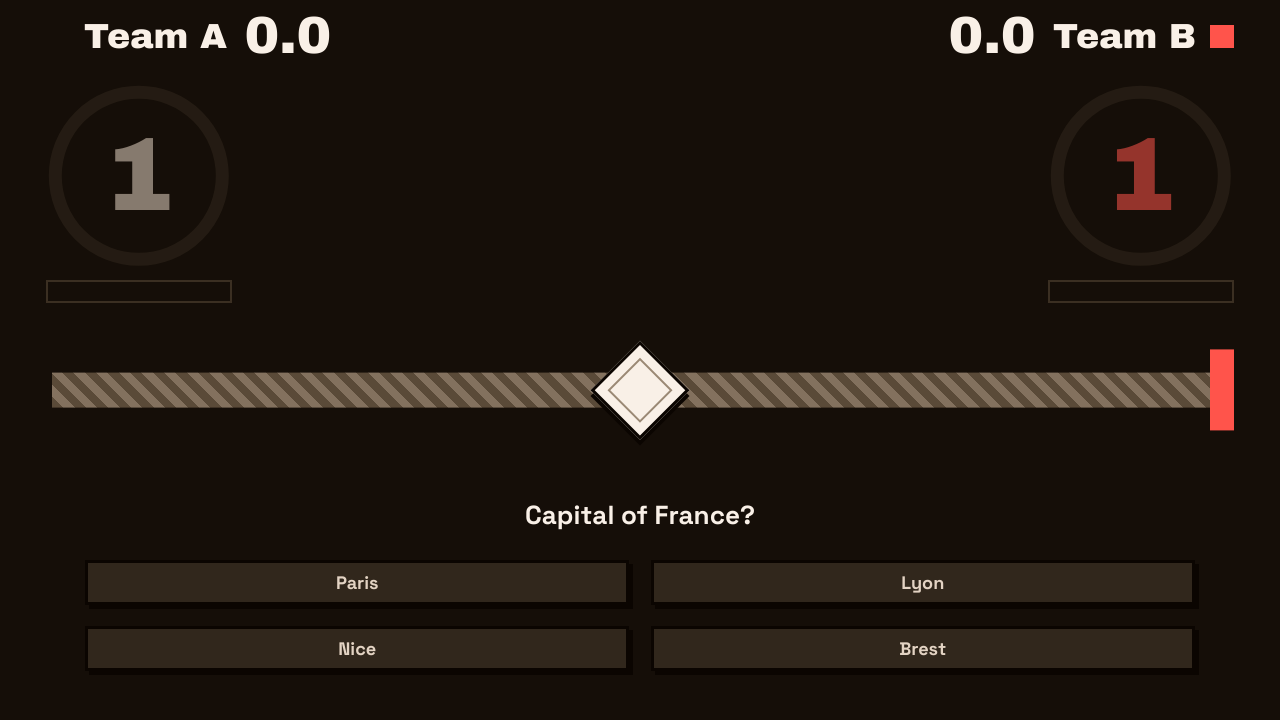
Test: TriviaPlay acknowledgement › disables every choice as soon as one is tapped
(page scrolled)
Click the button "Paris": (357, 583) x1=85 y1=560 x2=629 y2=605
(page scrolled)
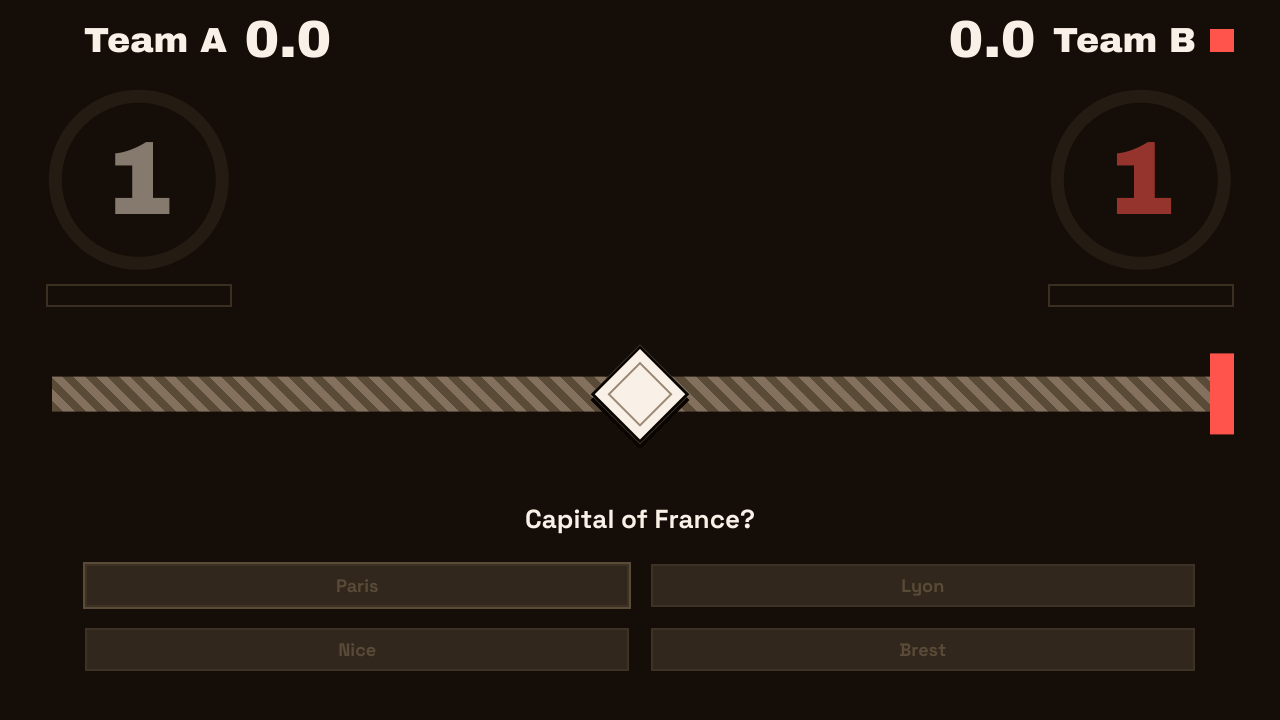
Check: the button "Paris" is disabled, box x1=85 y1=564 x2=629 y2=607
Check: the button "Lyon" is disabled, box x1=651 y1=564 x2=1195 y2=607
Check: the button "Nice" is disabled, box x1=85 y1=628 x2=629 y2=671
